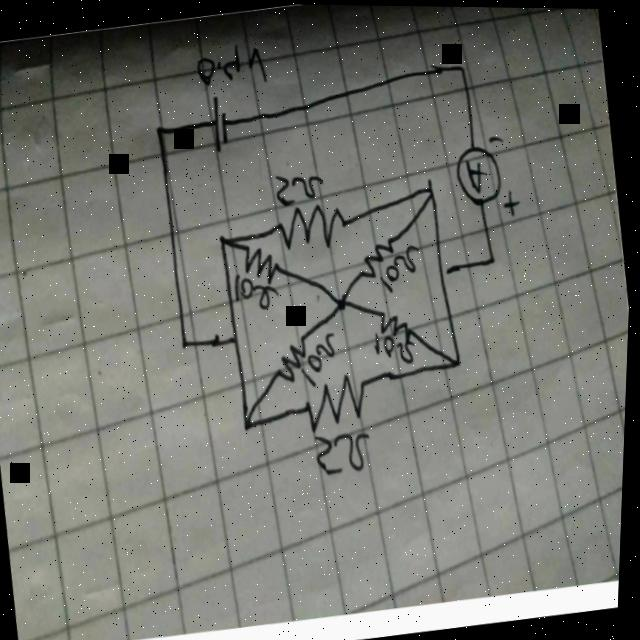junction: (437, 258, 457, 285), (230, 325, 246, 349), (242, 410, 258, 434), (337, 292, 353, 316), (152, 119, 168, 143), (453, 351, 469, 375), (424, 179, 440, 203), (456, 58, 472, 82), (486, 247, 502, 271), (179, 331, 194, 355), (219, 230, 234, 254)
resistor: (301, 367, 376, 436), (276, 200, 353, 257), (272, 331, 316, 390), (355, 231, 403, 285), (242, 237, 283, 287), (379, 305, 420, 353)
source: (205, 93, 234, 158)
text: (193, 39, 272, 92), (314, 425, 379, 482), (299, 326, 345, 392), (378, 240, 428, 296), (272, 167, 329, 213), (233, 267, 283, 315), (373, 326, 421, 369)
